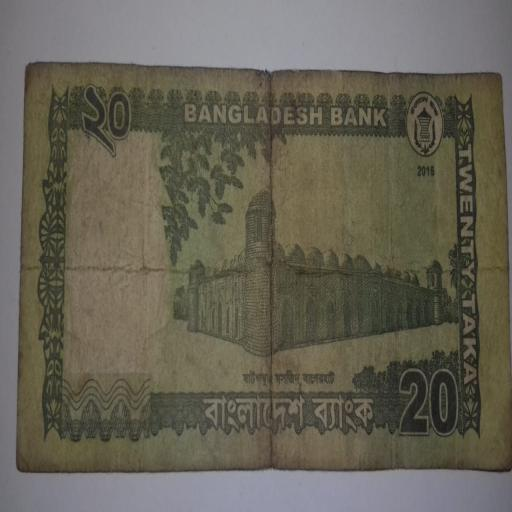20taka: (26, 58, 512, 474)
